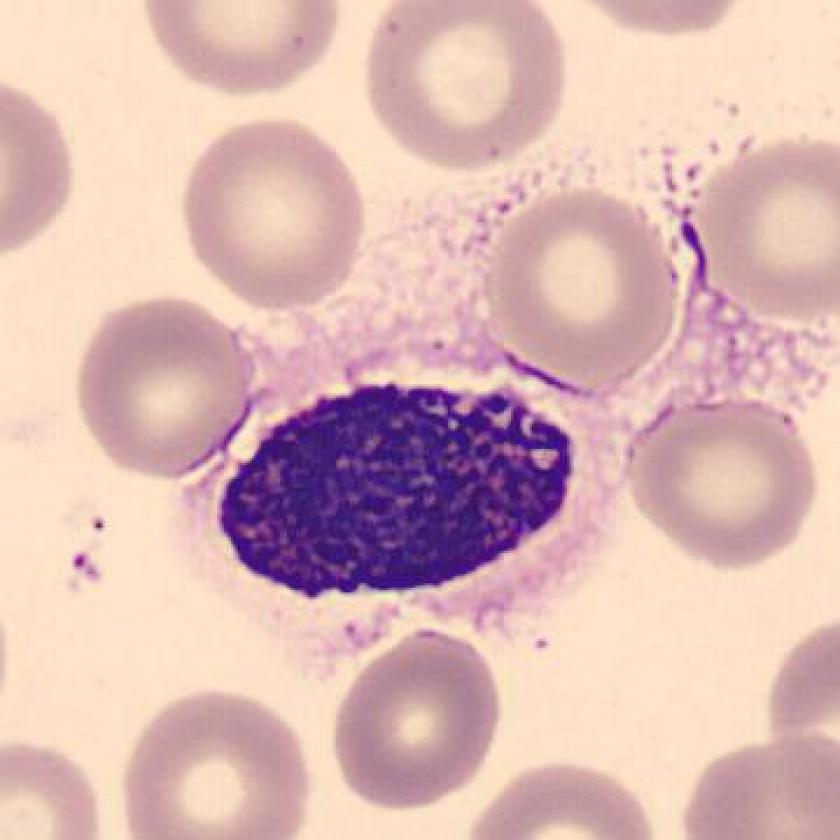basophil: (213, 378, 587, 605)
